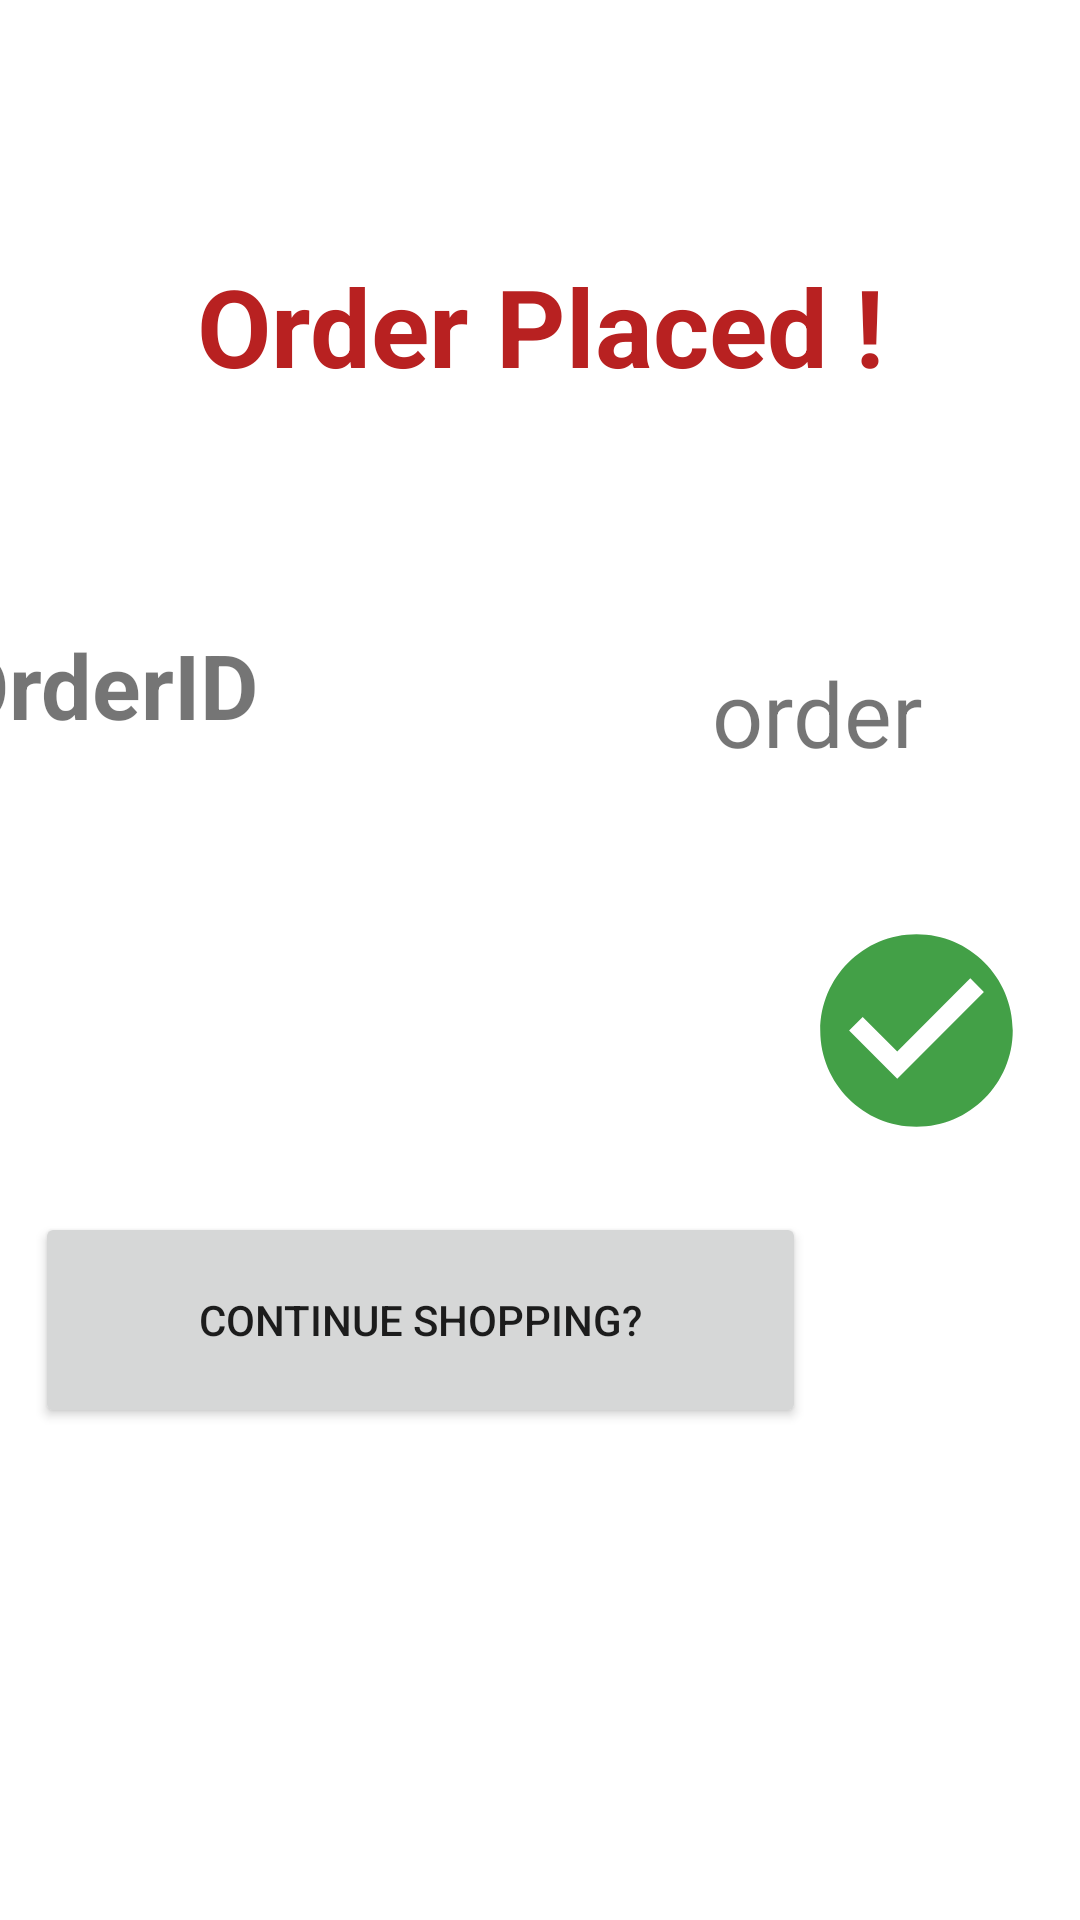

Screen size 1080 x 1920. Icon name, then its center in pixels as (x=x, y=y):
check: (x=916, y=1030)
